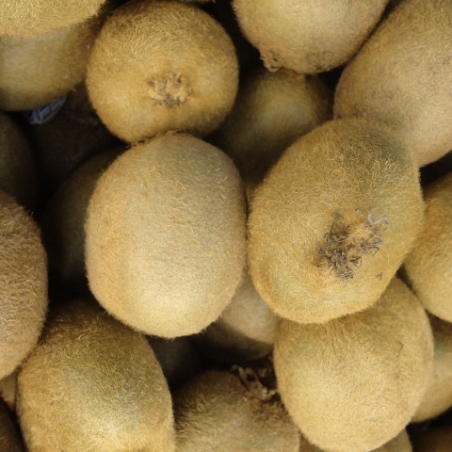kiwi: (66, 114, 267, 339), (236, 105, 428, 336), (267, 277, 440, 452), (80, 0, 241, 161)
